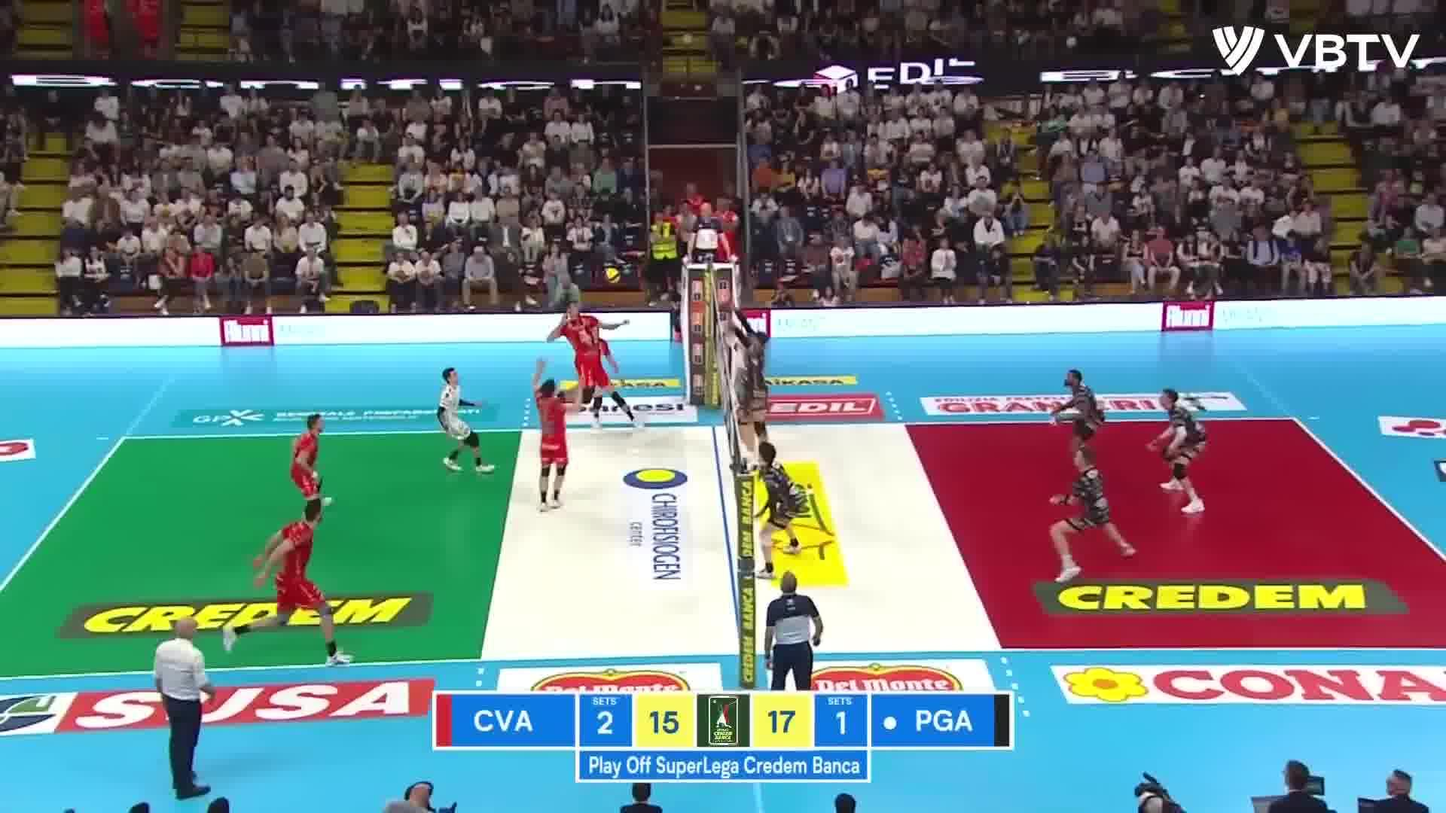balls: (601, 265, 622, 288)
